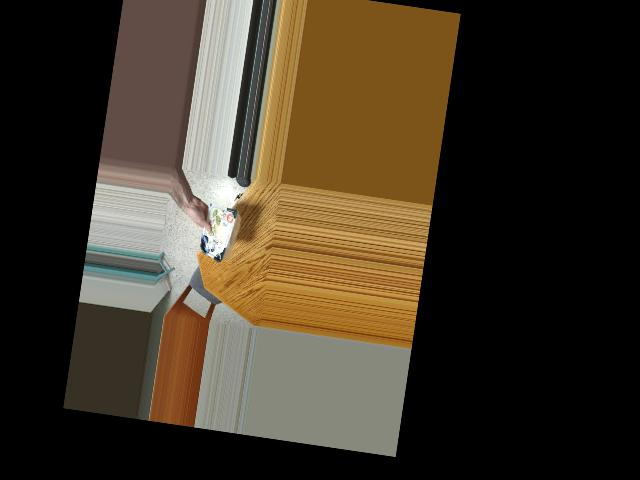cheese: (193, 204, 239, 260)
